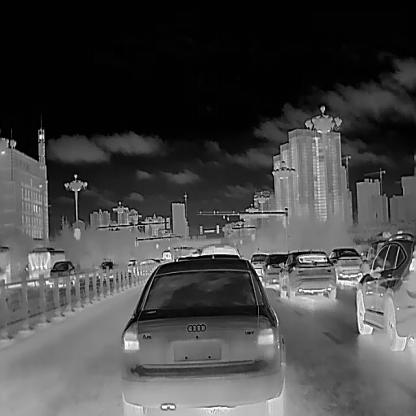bus: (26, 245, 65, 281)
car: (121, 258, 285, 415), (354, 232, 416, 350), (278, 250, 337, 298), (328, 247, 362, 279), (366, 238, 400, 268), (262, 252, 288, 286), (248, 251, 272, 280), (49, 261, 75, 284), (98, 261, 117, 279), (126, 259, 139, 277)
